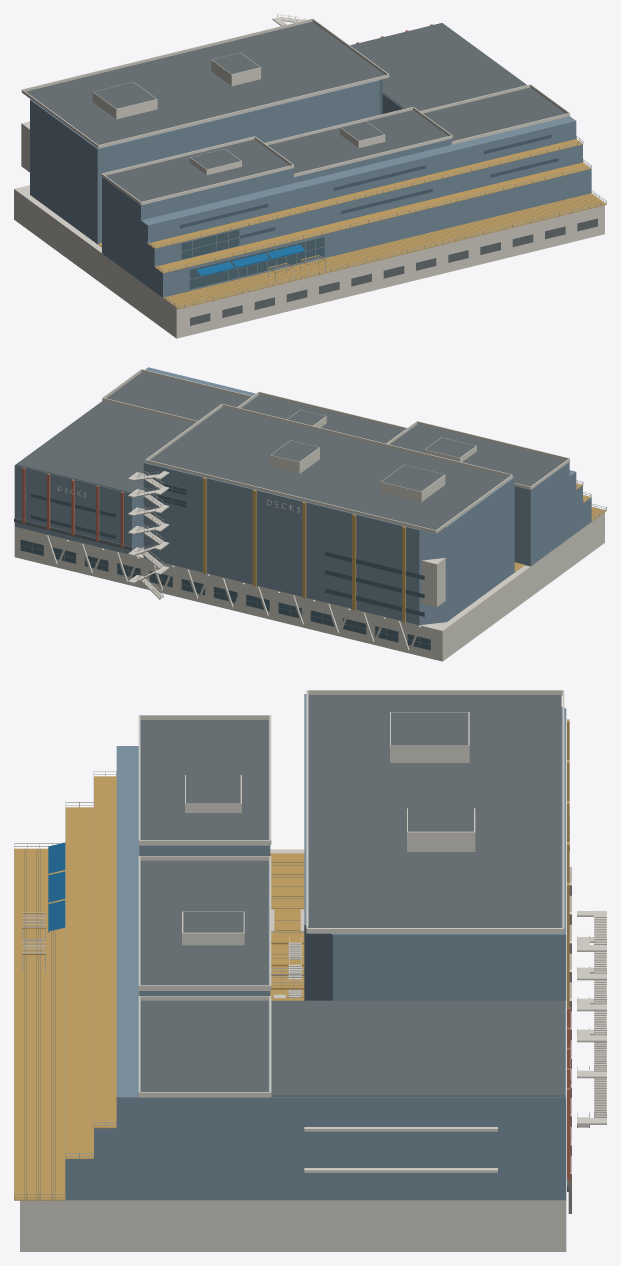
The model's file is decks-tokyo-beach.glb.
3 renders of one model, top to bottom at view 1: azimuth 30°, elevation 25°; view 2: azimuth 150°, elevation 25°; view 3: azimuth 270°, elevation 25°, orthographic. The views are drawn at different scales.
Visible parts, largest first — view 1: Seaside_Mall Blue Gray Cladding, Island_Mall Roof and Shadow, Connected_Low_Base Warm Ivory Structure, Island_Mall Blue Gray Cladding, Seaside_Terraces Ochre Accent Structure, Seaside_Mall Roof and Shadow, Joypolis_End_Extension Roof and Shadow, Seaside_Mall Warm Ivory Structure, Island_Mall Warm Ivory Structure, Seaside_Terraces Gray Frames and Railings, Local_Terrace_Glass Dark Blue Gray Glazing, Roof_Structures Roof and Shadow (+6 smaller); view 2: Island_Mall Blue Gray Cladding, Island_Mall Roof and Shadow, Connected_Low_Base Warm Ivory Structure, Seaside_Mall Roof and Shadow, Joypolis_End_Extension Roof and Shadow, Joypolis_End_Extension Blue Gray Cladding, Seaside_Mall Blue Gray Cladding, Island_Mall Warm Ivory Structure, Connected_Low_Base Dark Blue Gray Glazing, Seaside_Mall Warm Ivory Structure, Roof_Structures Roof and Shadow, Island_Exterior_Details Ochre Accent Structure (+7 smaller); view 3: Island_Mall Roof and Shadow, Seaside_Mall Roof and Shadow, Seaside_Terraces Ochre Accent Structure, Seaside_Mall Blue Gray Cladding, Joypolis_End_Extension Blue Gray Cladding, Connected_Low_Base Warm Ivory Structure, Joypolis_End_Extension Roof and Shadow, Island_Mall Blue Gray Cladding, Roof_Structures Roof and Shadow, Seaside_Mall Warm Ivory Structure, Roof_Structures Warm Ivory Structure, Island_Mall Warm Ivory Structure (+9 smaller).
Part boxes in pixels (x1,y1,x2,y2): Seaside_Mall Blue Gray Cladding: (102, 116, 591, 297); Island_Mall Roof and Shadow: (26, 21, 384, 144); Connected_Low_Base Warm Ivory Structure: (14, 185, 604, 338); Island_Mall Blue Gray Cladding: (30, 79, 382, 243); Seaside_Terraces Ochre Accent Structure: (148, 139, 606, 309); Seaside_Mall Roof and Shadow: (106, 87, 565, 201); Joypolis_End_Extension Roof and Shadow: (350, 23, 526, 111); Seaside_Mall Warm Ivory Structure: (101, 84, 569, 205); Island_Mall Warm Ivory Structure: (21, 18, 389, 172); Seaside_Terraces Gray Frames and Railings: (147, 136, 606, 308); Local_Terrace_Glass Dark Blue Gray Glazing: (181, 229, 324, 289); Roof_Structures Roof and Shadow: (94, 53, 383, 169); Island_Mall Blue Gray Cladding: (143, 461, 514, 625); Island_Mall Roof and Shadow: (150, 407, 508, 529); Connected_Low_Base Warm Ivory Structure: (14, 512, 604, 661); Seaside_Mall Roof and Shadow: (106, 372, 565, 486); Joypolis_End_Extension Roof and Shadow: (14, 400, 194, 550); Joypolis_End_Extension Blue Gray Cladding: (14, 411, 143, 553); Seaside_Mall Blue Gray Cladding: (145, 367, 591, 566); Island_Mall Warm Ivory Structure: (145, 404, 512, 607); Connected_Low_Base Dark Blue Gray Glazing: (20, 540, 430, 650); Seaside_Mall Warm Ivory Structure: (102, 369, 569, 489); Roof_Structures Roof and Shadow: (271, 410, 475, 491); Island_Exterior_Details Ochre Accent Structure: (202, 477, 405, 622); Island_Mall Roof and Shadow: (309, 695, 561, 927); Seaside_Mall Roof and Shadow: (141, 720, 268, 1091); Seaside_Terraces Ochre Accent Structure: (14, 776, 116, 1200); Seaside_Mall Blue Gray Cladding: (65, 720, 270, 1200); Joypolis_End_Extension Blue Gray Cladding: (270, 1001, 566, 1200); Connected_Low_Base Warm Ivory Structure: (20, 849, 566, 1251); Joypolis_End_Extension Roof and Shadow: (271, 1000, 568, 1191); Island_Mall Blue Gray Cladding: (304, 694, 566, 1000); Roof_Structures Roof and Shadow: (183, 712, 473, 932); Seaside_Mall Warm Ivory Structure: (138, 715, 271, 1097); Roof_Structures Warm Ivory Structure: (182, 712, 475, 945); Island_Mall Warm Ivory Structure: (306, 690, 564, 933).
Bounding box in the file's own units: 147 × 45.27 × 104.
